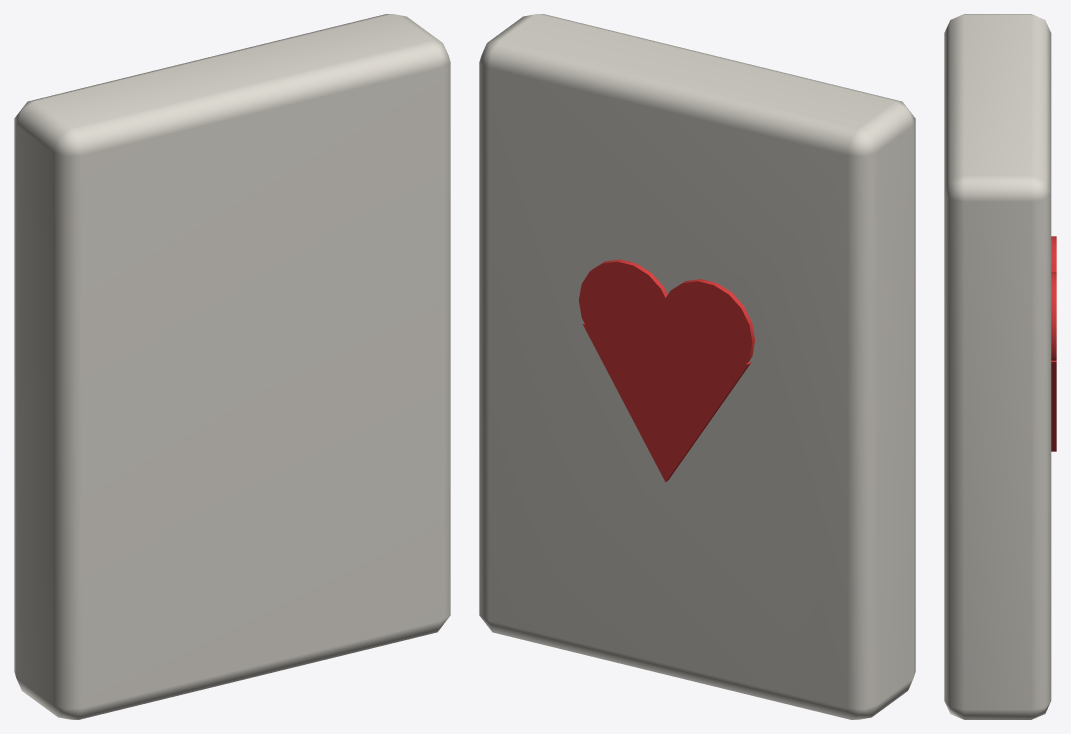
File: playing_cards.glb
3 views of the same model, side by side, from view 1: azimuth 30°, elevation 25°; view 2: azimuth 150°, elevation 25°; view 3: azimuth 270°, elevation 25° (orthographic). The views are drawn at different scales.
Visible parts, largest first — view 1: playing_cards; view 2: playing_cards; view 3: playing_cards.
Part boxes in pixels (x1,y1,x2,y2): playing_cards: [14, 14, 450, 719]; playing_cards: [479, 14, 915, 719]; playing_cards: [944, 14, 1056, 719].
Bounding box in the file's own units: 0.063 × 0.09 × 0.0168.
